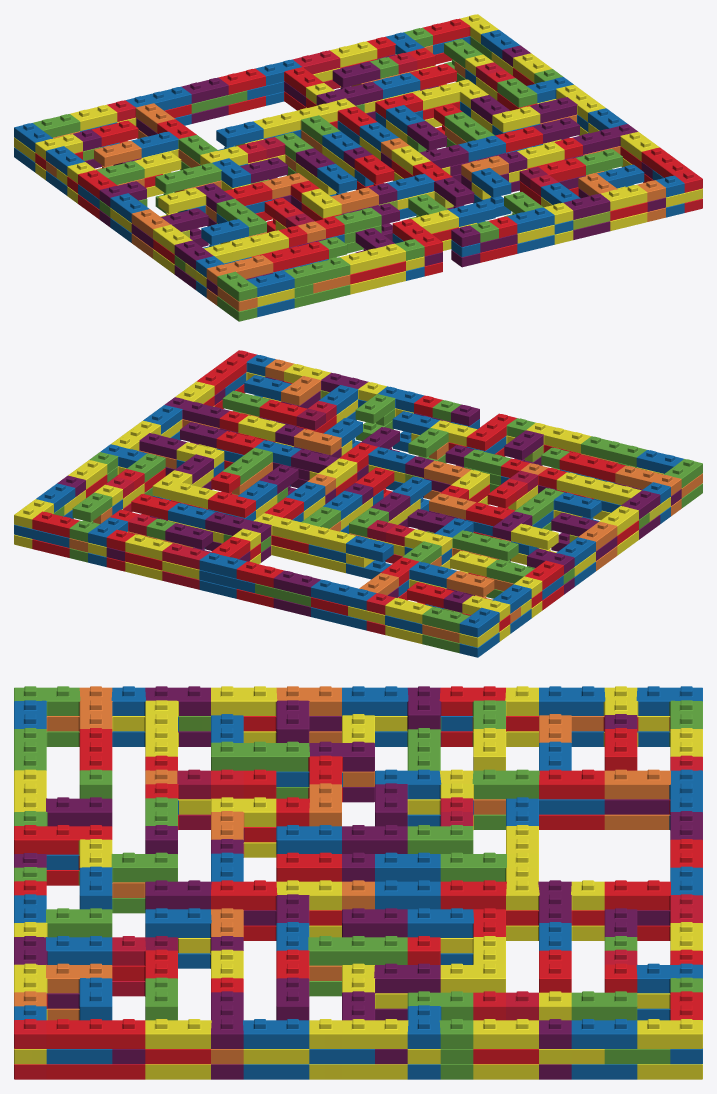
Rendered from LABIRENTT.fbx.
The picture shows the model from 3 angles, top to bottom: view 1: azimuth 30°, elevation 25°; view 2: azimuth 150°, elevation 25°; view 3: azimuth 270°, elevation 25°; orthographic projection. The views are drawn at different scales.
Parts seen in each view (by area): view 1: Cube.004; view 2: Cube.004; view 3: Cube.004.
Part boxes in pixels (x1,y1,x2,y2): Cube.004: [14, 14, 702, 321]; Cube.004: [14, 350, 702, 657]; Cube.004: [14, 686, 702, 1079].
Size of the model in its own units: 51.17 by 42.98 by 3.56.
